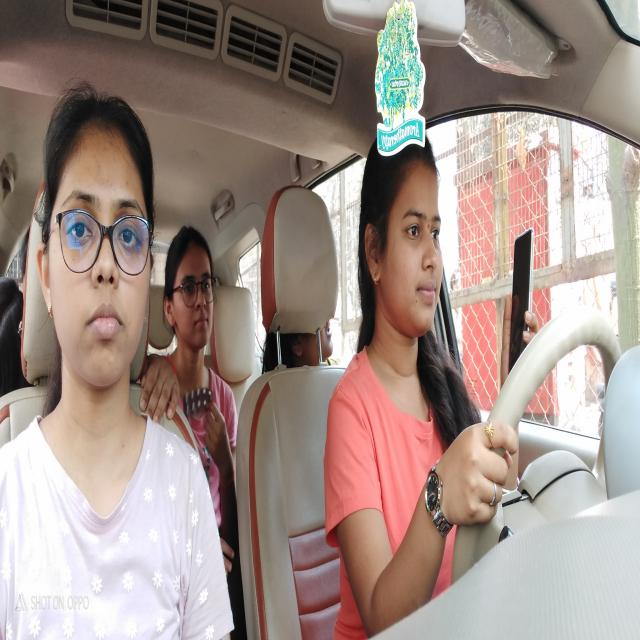mobile: (497, 206, 548, 398)
person: (28, 72, 165, 404), (355, 118, 452, 375), (155, 218, 222, 374), (272, 292, 340, 398)
